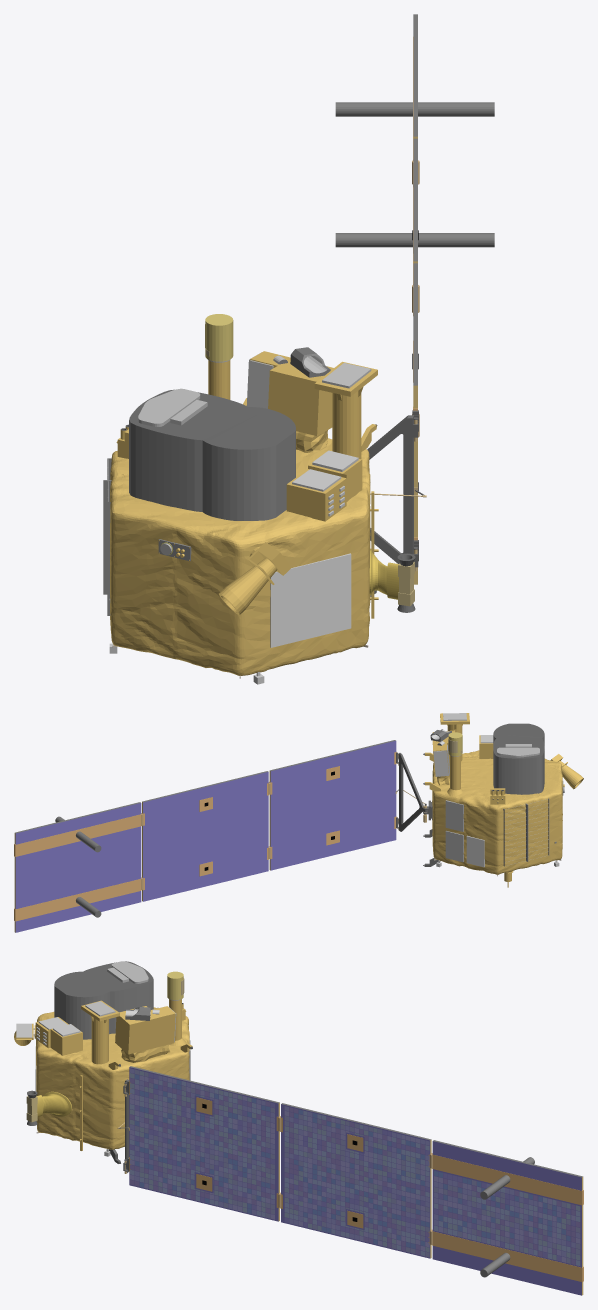
The model's file is Earth Observing-1.glb.
3 views of the same model, one above another, from view 1: azimuth 30°, elevation 25°; view 2: azimuth 150°, elevation 25°; view 3: azimuth 270°, elevation 25° (orthographic). The views are drawn at different scales.
Parts seen in each view (by area): view 1: EO-1_vFINAL [Layer2], EO-1_vFINAL [Layer7], EO-1_vFINAL [Layer5], EO-1_vFINAL [Layer8], EO-1_vFINAL [Layer1], EO-1_vFINAL [Layer9], EO-1_vFINAL [Layer3], EO-1_vFINAL [Layer6]; view 2: EO-1_vFINAL [Layer1], EO-1_vFINAL [Layer2], EO-1_vFINAL [Layer7], EO-1_vFINAL [Layer8], EO-1_vFINAL [Layer5], EO-1_vFINAL [Layer6], EO-1_vFINAL [Layer3]; view 3: EO-1_vFINAL [Layer1], EO-1_vFINAL [Layer2], EO-1_vFINAL [Layer5], EO-1_vFINAL [Layer7], EO-1_vFINAL [Layer8], EO-1_vFINAL [Layer9], EO-1_vFINAL [Layer3].
Boxes of the visible parts, x1,y1,x2,y2 form: EO-1_vFINAL [Layer2]: [110, 430, 370, 675]; EO-1_vFINAL [Layer7]: [109, 347, 377, 603]; EO-1_vFINAL [Layer5]: [116, 351, 378, 618]; EO-1_vFINAL [Layer8]: [109, 352, 371, 684]; EO-1_vFINAL [Layer1]: [335, 14, 494, 584]; EO-1_vFINAL [Layer9]: [369, 548, 415, 612]; EO-1_vFINAL [Layer3]: [205, 314, 233, 362]; EO-1_vFINAL [Layer6]: [103, 458, 111, 615]; EO-1_vFINAL [Layer1]: [14, 740, 432, 932]; EO-1_vFINAL [Layer2]: [432, 750, 562, 874]; EO-1_vFINAL [Layer7]: [423, 723, 556, 866]; EO-1_vFINAL [Layer8]: [433, 713, 559, 867]; EO-1_vFINAL [Layer5]: [425, 713, 583, 887]; EO-1_vFINAL [Layer6]: [503, 798, 549, 866]; EO-1_vFINAL [Layer3]: [448, 732, 462, 756]; EO-1_vFINAL [Layer1]: [117, 1066, 583, 1295]; EO-1_vFINAL [Layer2]: [36, 1007, 189, 1149]; EO-1_vFINAL [Layer5]: [14, 999, 192, 1150]; EO-1_vFINAL [Layer7]: [54, 961, 192, 1163]; EO-1_vFINAL [Layer8]: [33, 961, 190, 1156]; EO-1_vFINAL [Layer9]: [26, 1090, 71, 1125]; EO-1_vFINAL [Layer3]: [167, 971, 184, 1000].
Size of the model in its own units: 10893 by 4278 by 12895.
